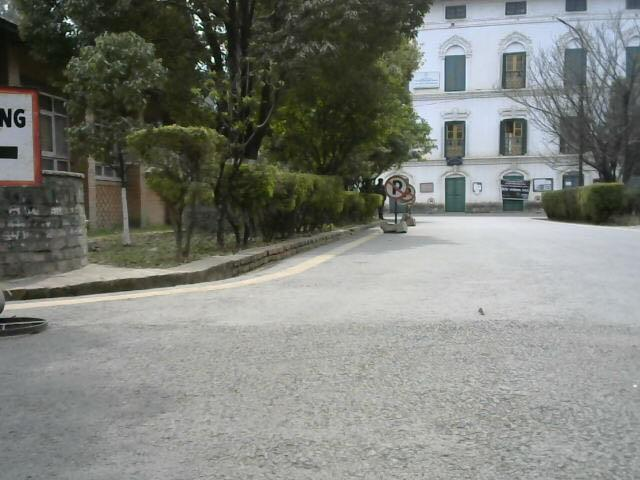Building: (421, 2, 640, 226)
Traffic sign: (379, 168, 425, 232), (405, 182, 431, 229)
Tree: (41, 221, 636, 480), (41, 0, 371, 239), (86, 29, 242, 243), (218, 156, 283, 246), (293, 169, 353, 227), (274, 167, 309, 227), (329, 175, 365, 231)
